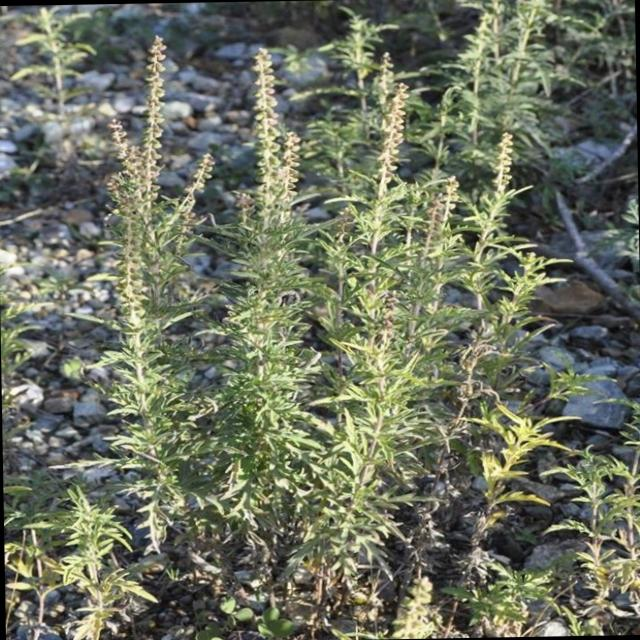ambrosia: (344, 63, 550, 357), (88, 14, 214, 321), (230, 27, 325, 277)
